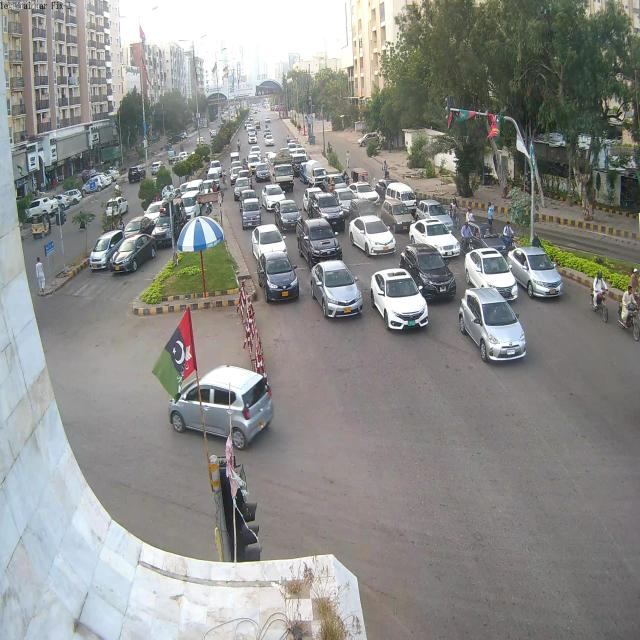car: (456, 290, 530, 367), (370, 262, 428, 343), (503, 240, 564, 303), (309, 262, 369, 323), (456, 247, 514, 298), (404, 246, 452, 306), (406, 210, 457, 262), (346, 208, 395, 260), (253, 255, 301, 300), (111, 235, 156, 280), (156, 198, 187, 246), (89, 228, 124, 270), (250, 225, 288, 260), (310, 193, 344, 230), (378, 198, 410, 235), (120, 218, 154, 244), (277, 200, 301, 233), (260, 181, 285, 211), (25, 198, 58, 219), (232, 176, 258, 202), (333, 187, 358, 214), (353, 180, 377, 207), (241, 200, 259, 230), (105, 195, 129, 217), (126, 162, 148, 186), (300, 185, 324, 204), (253, 158, 271, 183), (62, 185, 82, 204), (82, 178, 104, 194), (49, 194, 72, 205), (244, 153, 259, 168), (150, 160, 166, 174), (264, 134, 276, 148), (248, 132, 258, 144)
motorbike: (617, 284, 640, 342), (589, 271, 608, 322), (460, 222, 473, 256), (504, 222, 514, 250), (205, 189, 213, 214)
truck: (269, 155, 295, 192)
